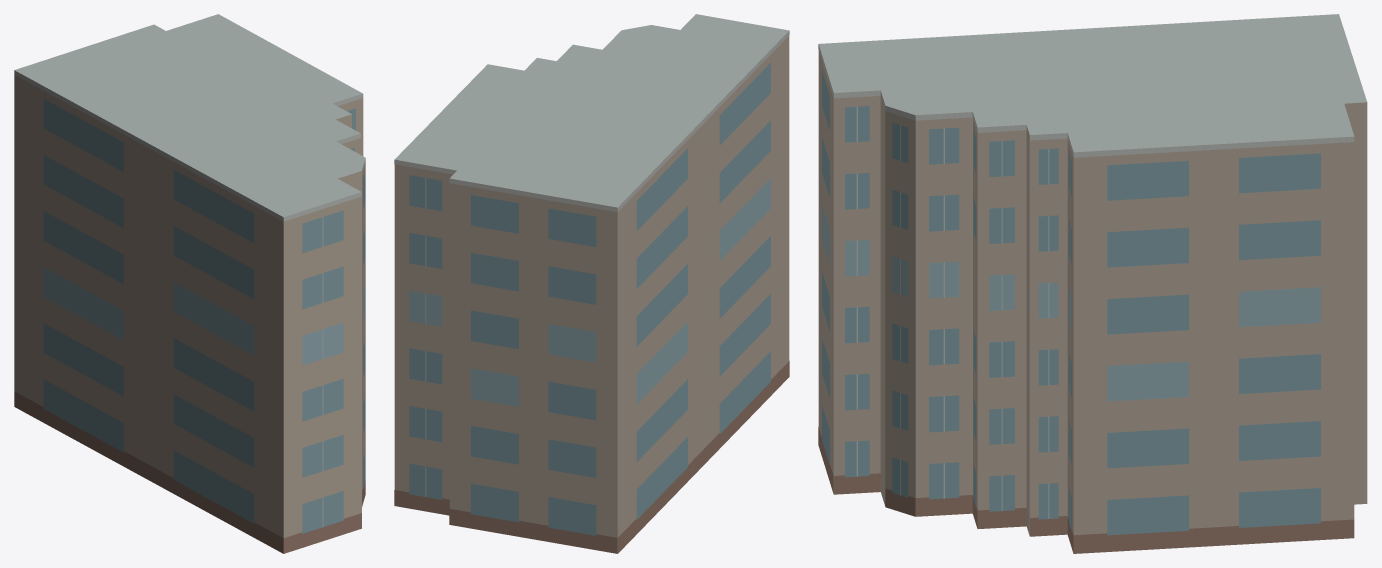
Rendered from survey-upis-32735394.glb.
The picture shows the model from 3 angles, left to right: view 1: azimuth 30°, elevation 25°; view 2: azimuth 150°, elevation 25°; view 3: azimuth 270°, elevation 25°; orthographic projection. The views are drawn at different scales.
Visible parts, largest first — view 1: survey-upis-32735394.tmp; view 2: survey-upis-32735394.tmp; view 3: survey-upis-32735394.tmp.
Part boxes in pixels (box(x1,y1,x2,y2)): survey-upis-32735394.tmp: box(14, 14, 365, 553); survey-upis-32735394.tmp: box(394, 14, 789, 553); survey-upis-32735394.tmp: box(818, 14, 1367, 553).
Bounding box in the file's own units: 13.38 × 18.1 × 22.43.
